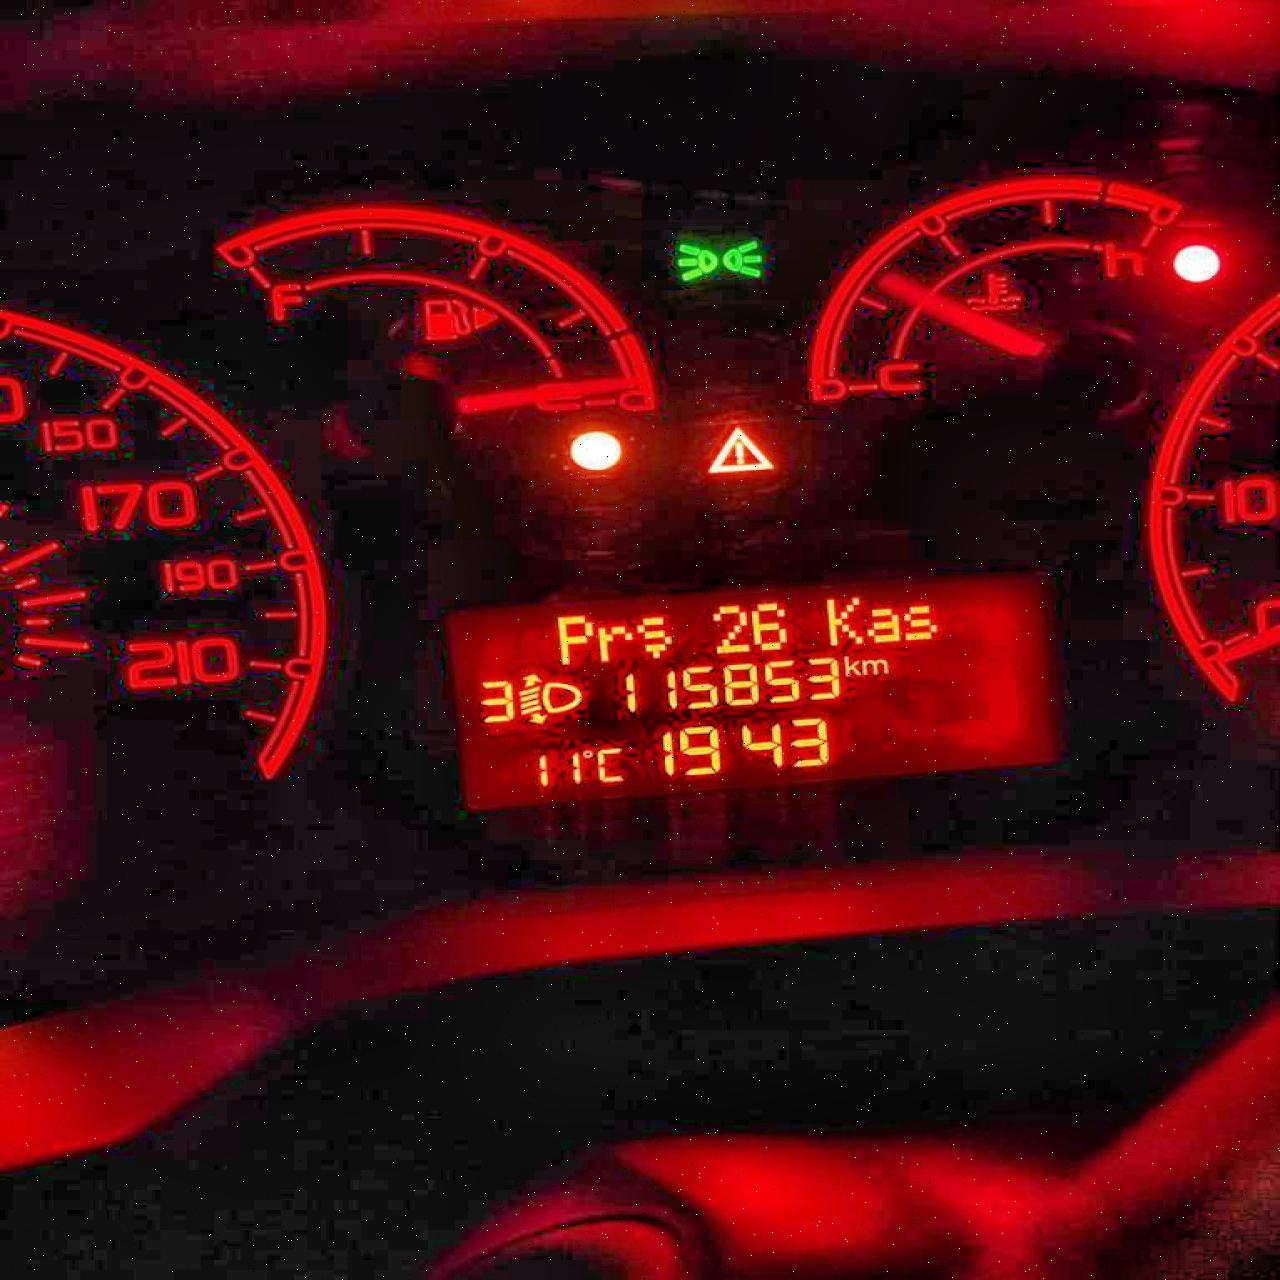1: (660, 730, 673, 776), (624, 673, 635, 713), (666, 669, 676, 709), (536, 753, 547, 787), (570, 751, 580, 784)
2: (710, 604, 749, 653)
3: (787, 716, 829, 765), (478, 679, 513, 722), (804, 656, 839, 700)
4: (738, 722, 782, 768)
5: (680, 665, 717, 709), (762, 659, 799, 702)
6: (750, 601, 785, 651)
8: (722, 662, 760, 706)
9: (676, 726, 719, 775)
X: (824, 595, 863, 646), (554, 615, 592, 665), (635, 614, 672, 658), (597, 625, 632, 661), (903, 605, 938, 639), (866, 607, 899, 642), (594, 747, 624, 782), (860, 658, 887, 675), (843, 655, 859, 676)
odometer: (437, 571, 1061, 815)
